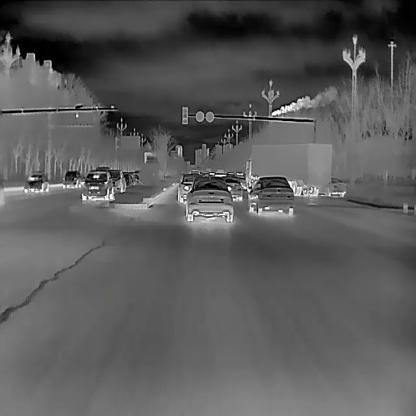car: (244, 141, 332, 197), (185, 176, 234, 222), (248, 175, 293, 215), (81, 171, 114, 204), (177, 174, 200, 201), (21, 172, 48, 193), (223, 175, 242, 200), (109, 169, 126, 194), (328, 176, 345, 197), (62, 171, 81, 188)
